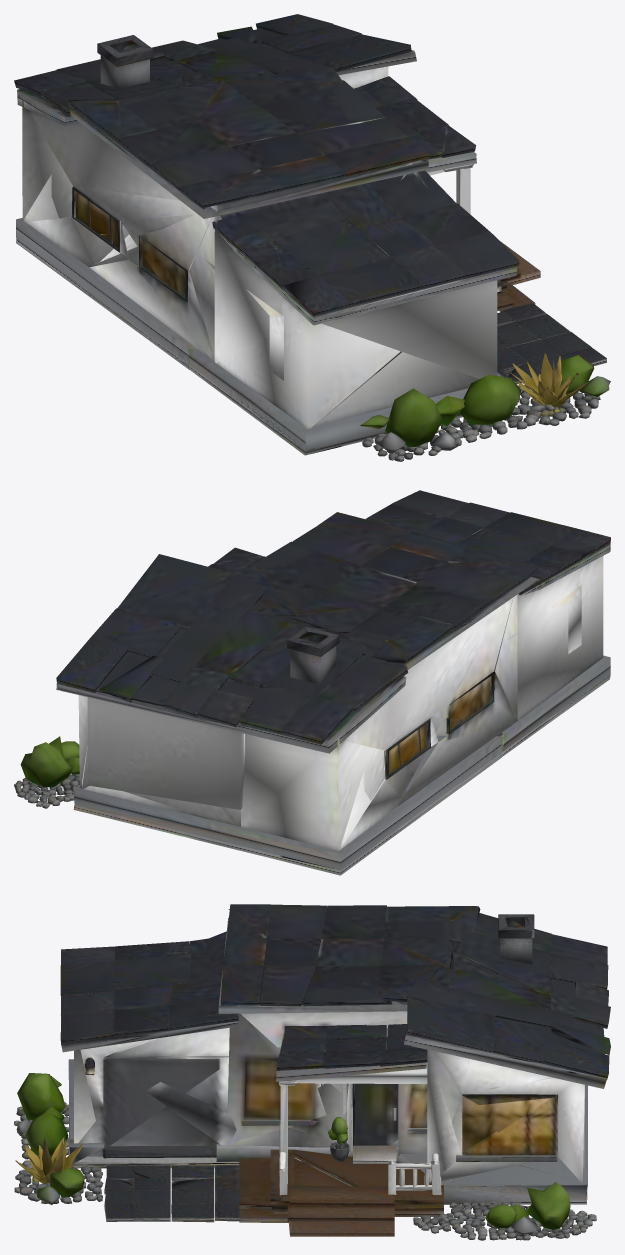
Rendered from house_modern.glb.
3 views of the same model, one above another, from view 1: azimuth 30°, elevation 25°; view 2: azimuth 150°, elevation 25°; view 3: azimuth 270°, elevation 25° (orthographic). The views are drawn at different scales.
Visible parts, largest first — view 1: geometry_0; view 2: geometry_0; view 3: geometry_0.
Boxes of the visible parts, box(x1,y1,x2,y2) form: geometry_0: box(14, 14, 610, 461); geometry_0: box(14, 490, 610, 875); geometry_0: box(14, 904, 610, 1240).
Bounding box in the file's own units: 0.6265 × 0.3379 × 0.9526.
1 material, 1 textured.
